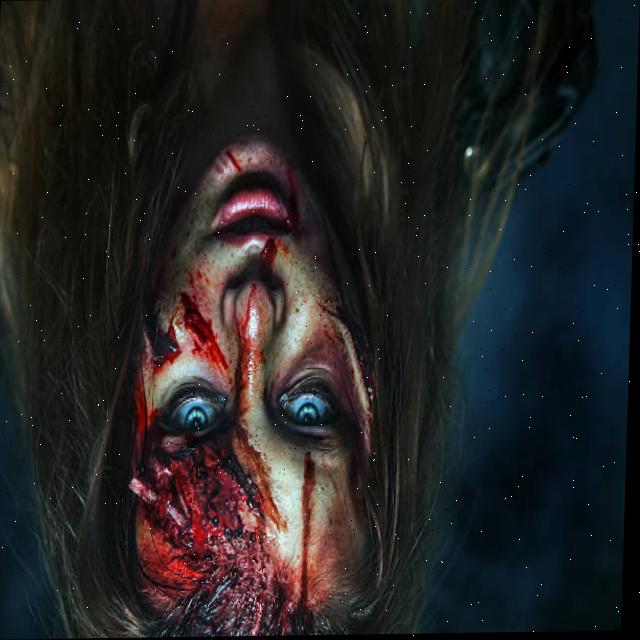Zombie: (171, 140, 178, 156)
